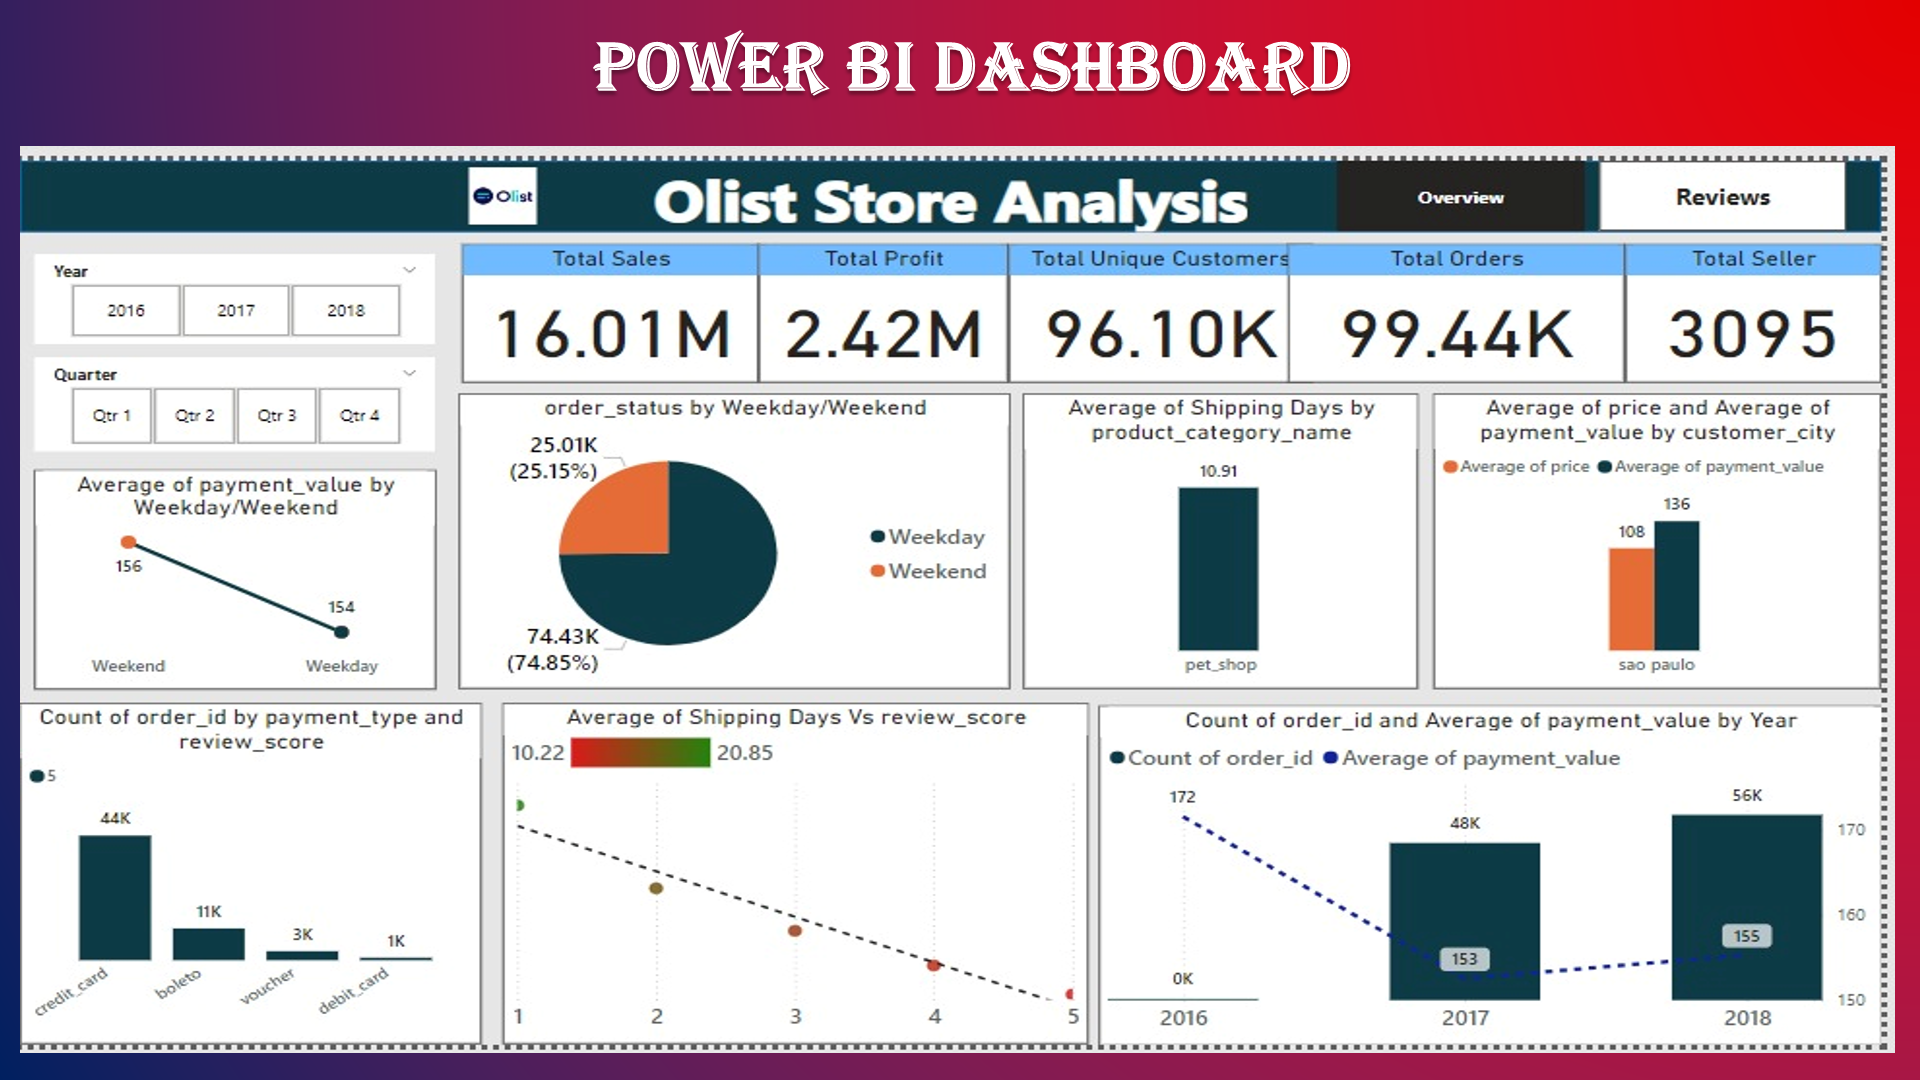

The dashboard page shown, as its layout file describes it:
{"tool":"tableau","page":{"name":"Dashboard 1","canvas":[1000,1000],"units":"permille","ordinal":0},"visuals":[{"type":"worksheet","title":"Total Customer","mark":"Automatic","box":[852.1,22.4,136.9,134.6]},{"type":"worksheet","title":"Total Seller","mark":"Automatic","box":[427.3,23.8,136.9,134.6]},{"type":"worksheet","title":"Total Sales","mark":"Automatic","box":[569.1,23.8,136.9,134.6]},{"type":"worksheet","title":"Total Profit","mark":"Automatic","box":[710.9,23.8,136.9,134.6]},{"type":"text","box":[69.4,30.3,351.2,110.8]},{"type":"image","param":"C:/Users/User/Pictures/logo for project.png","box":[14.6,35.6,50.5,91]},{"type":"filter","title":"KPI - 1.1","param":"[federated.1eqgc0s1p0jy1r1btusjz1s428x7].[none:Calculation_1027102193950846976:n","box":[9.9,141.2,132.7,149.1]},{"type":"worksheet","title":"KPI - 1.1","mark":"Pie","rows":["Calculation_923800877842964482","Calculation_923800877842964482"],"box":[145.5,167.6,240.4,416.9]},{"type":"worksheet","title":"KPI - 1.2","mark":"Circle","box":[723.7,167.6,267.2,415.6]},{"type":"worksheet","title":"KPI - 4","mark":"Automatic","cols":["customer_city"],"box":[387.7,168.9,333.5,415.6]},{"type":"filter","title":"KPI - 1.1","param":"[federated.1eqgc0s1p0jy1r1btusjz1s428x7].[yr:order_purchase_timestamp:ok]","box":[11.2,288.9,127.3,249.3]},{"type":"filter","title":"KPI - 1.1","param":"[federated.1eqgc0s1p0jy1r1btusjz1s428x7].[mn:order_purchase_timestamp:ok]","box":[10.5,509.2,130.6,469.7]},{"type":"worksheet","title":"KPI-3","mark":"Automatic","rows":["Calculation_923800877751369728","Calculation_923800877751369728"],"cols":["product_category_name (product_category_name_translation.csv"],"box":[727.3,589.7,263.5,393.1]},{"type":"worksheet","title":"KPI-2","mark":"Automatic","rows":["payment_type"],"cols":["olist!order!reviews!dataset_34B29EED36E8434FBC52C2E5BA74A3B2"],"box":[145.5,591,292.2,390.5]},{"type":"worksheet","title":"KPI - 5","mark":"Automatic","rows":["Calculation_923800877757820929"],"cols":["review_score"],"box":[440.5,591,283.7,391.8]}]}

Visuals, with their boxes on the dashboard's canvas, which has no fixed pixel size, in thousandths of its width and height (x1, y1, x2, y2). These are canvas units, not pixel positions in the 1920x1080 screenshot, which may show the page scaled, cropped or inside an application window:
"Total Customer" worksheet: x1=852, y1=22, x2=989, y2=157
"Total Seller" worksheet: x1=427, y1=24, x2=564, y2=158
"Total Sales" worksheet: x1=569, y1=24, x2=706, y2=158
"Total Profit" worksheet: x1=711, y1=24, x2=848, y2=158
text: x1=69, y1=30, x2=421, y2=141
image: x1=15, y1=36, x2=65, y2=127
"KPI - 1.1" filter: x1=10, y1=141, x2=143, y2=290
"KPI - 1.1" worksheet (Pie marks): x1=146, y1=168, x2=386, y2=584
"KPI - 1.2" worksheet (Circle marks): x1=724, y1=168, x2=991, y2=583
"KPI - 4" worksheet: x1=388, y1=169, x2=721, y2=584
"KPI - 1.1" filter: x1=11, y1=289, x2=138, y2=538
"KPI - 1.1" filter: x1=10, y1=509, x2=141, y2=979
"KPI-3" worksheet: x1=727, y1=590, x2=991, y2=983
"KPI-2" worksheet: x1=146, y1=591, x2=438, y2=982
"KPI - 5" worksheet: x1=440, y1=591, x2=724, y2=983
